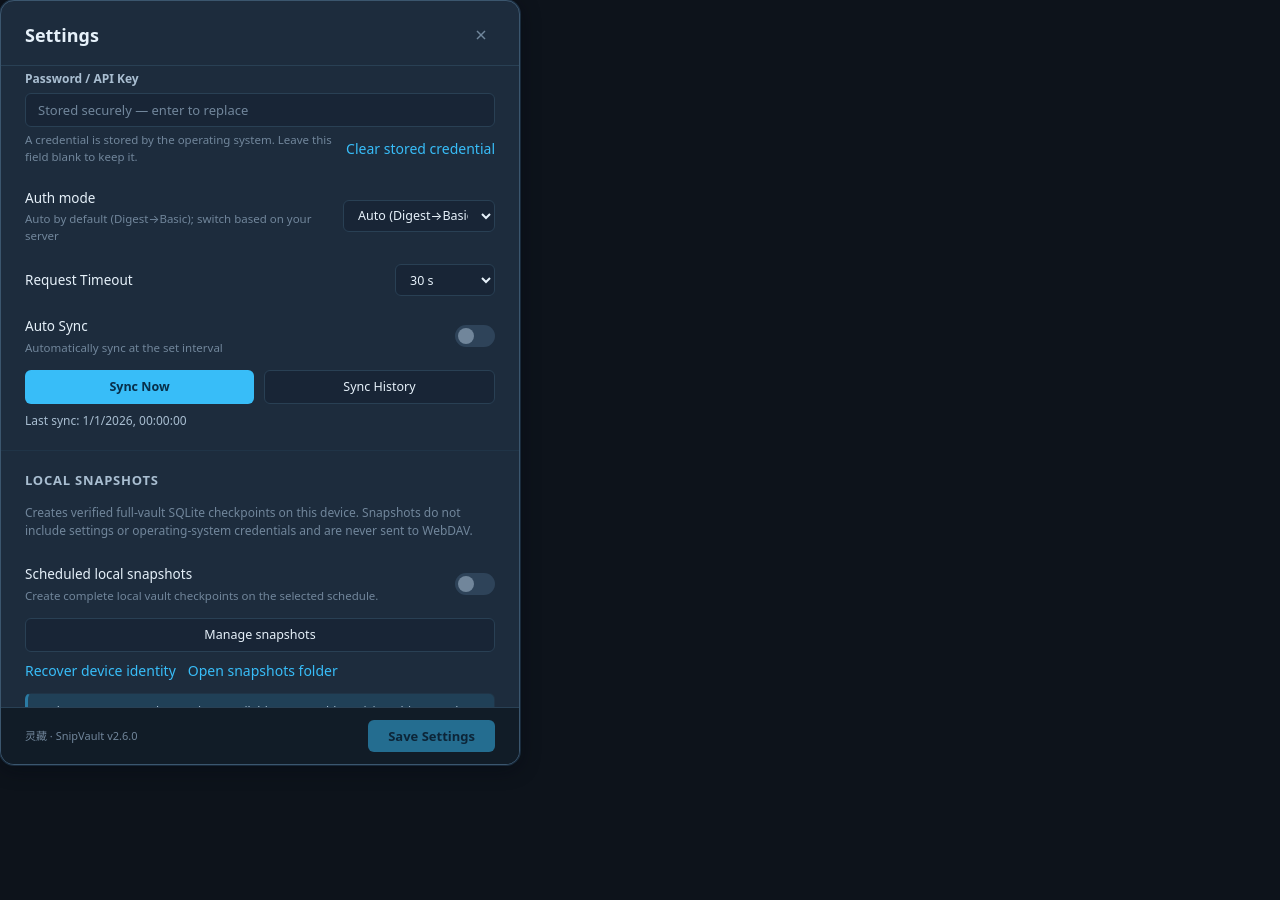
SettingsPanel draft behavior › renders v2 sync history counts, protocol metadata, and loading/error states
(page scrolled)
Click the button "Sync History".
click(380, 387)  # box left=264, top=370, right=495, bottom=404
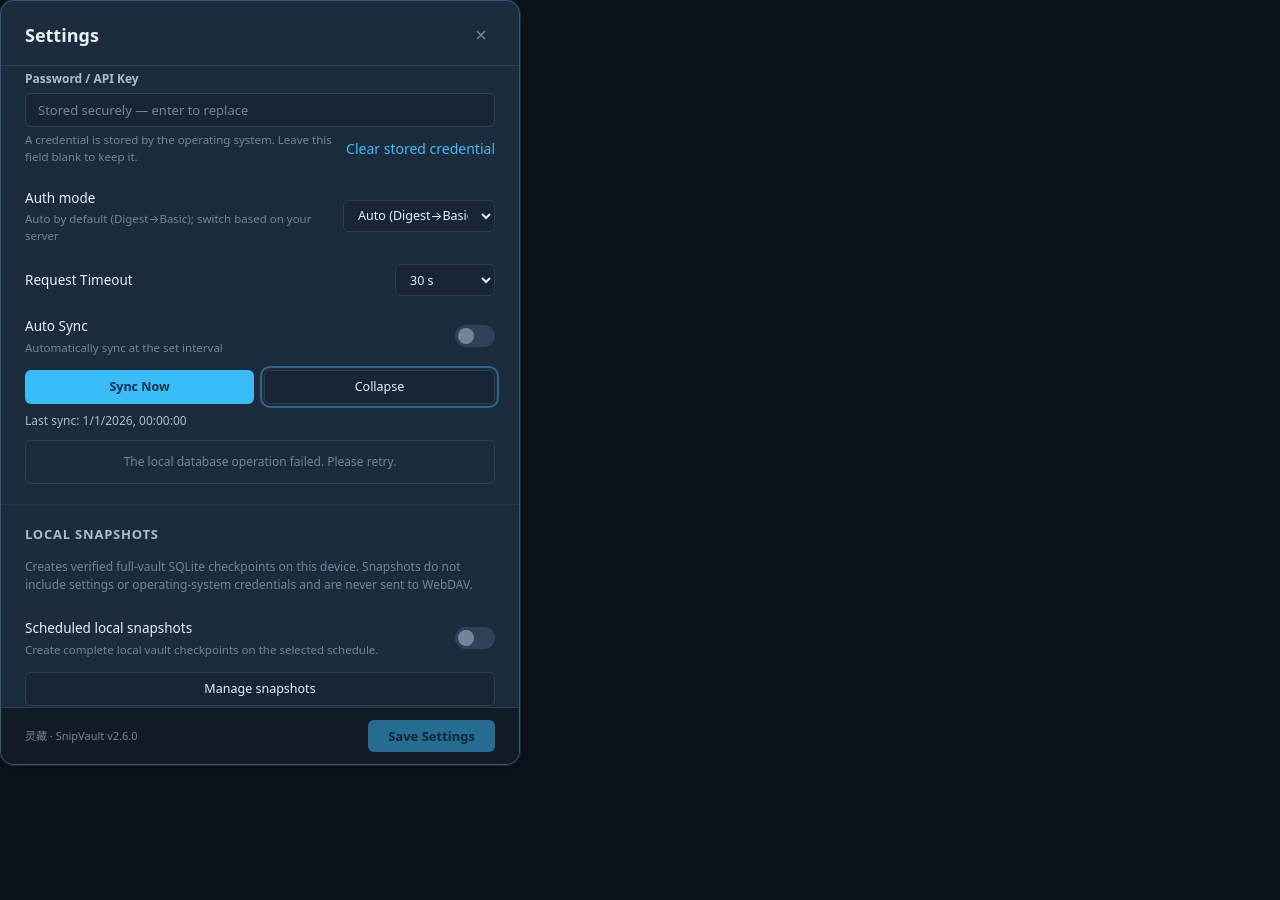
Check: the text "The local database operation failed. Please retry." is shown, box left=124, top=453, right=396, bottom=470
Click the button "Collapse".
click(380, 387)  # box left=264, top=370, right=495, bottom=404
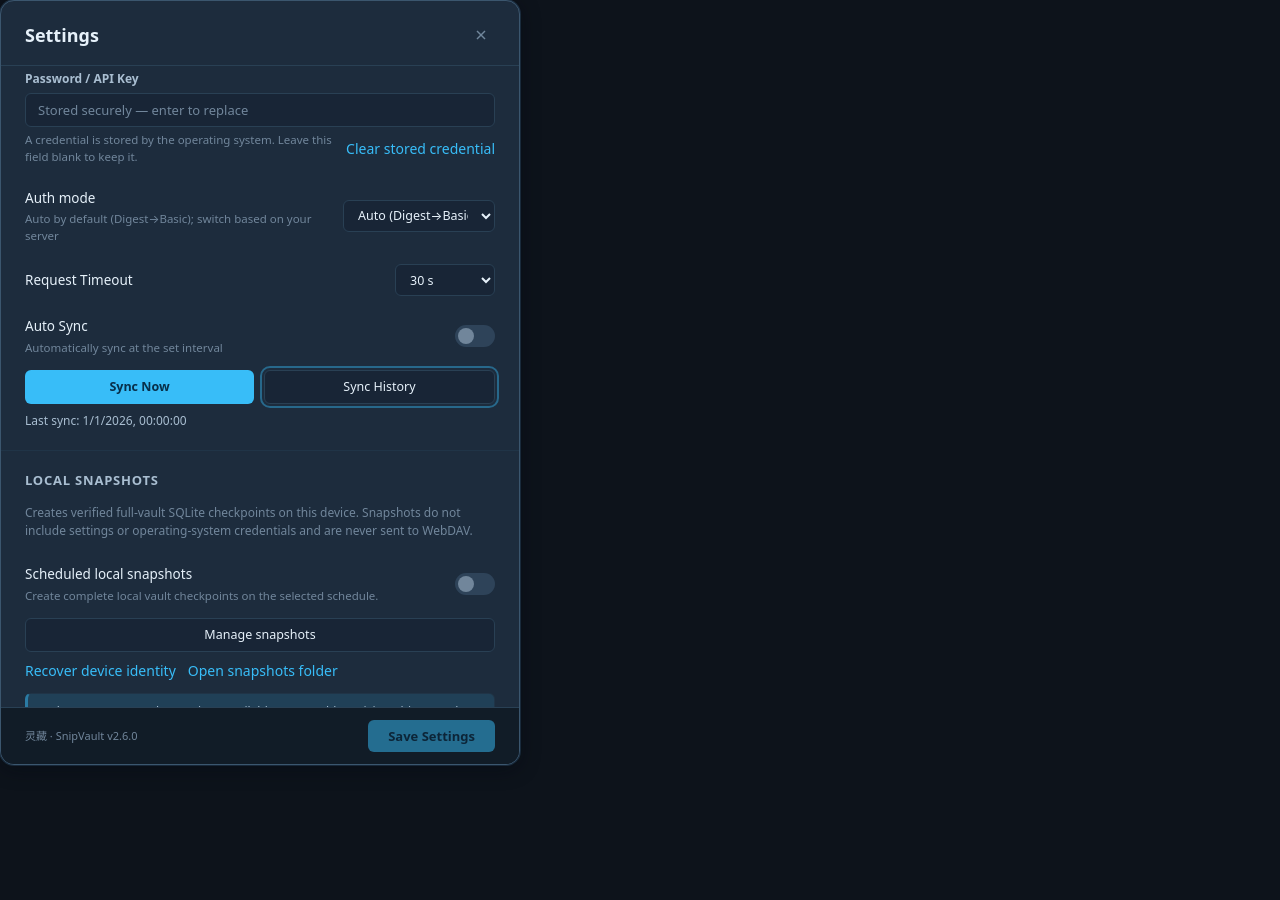
Click the button "Sync History".
click(380, 387)  # box left=264, top=370, right=495, bottom=404
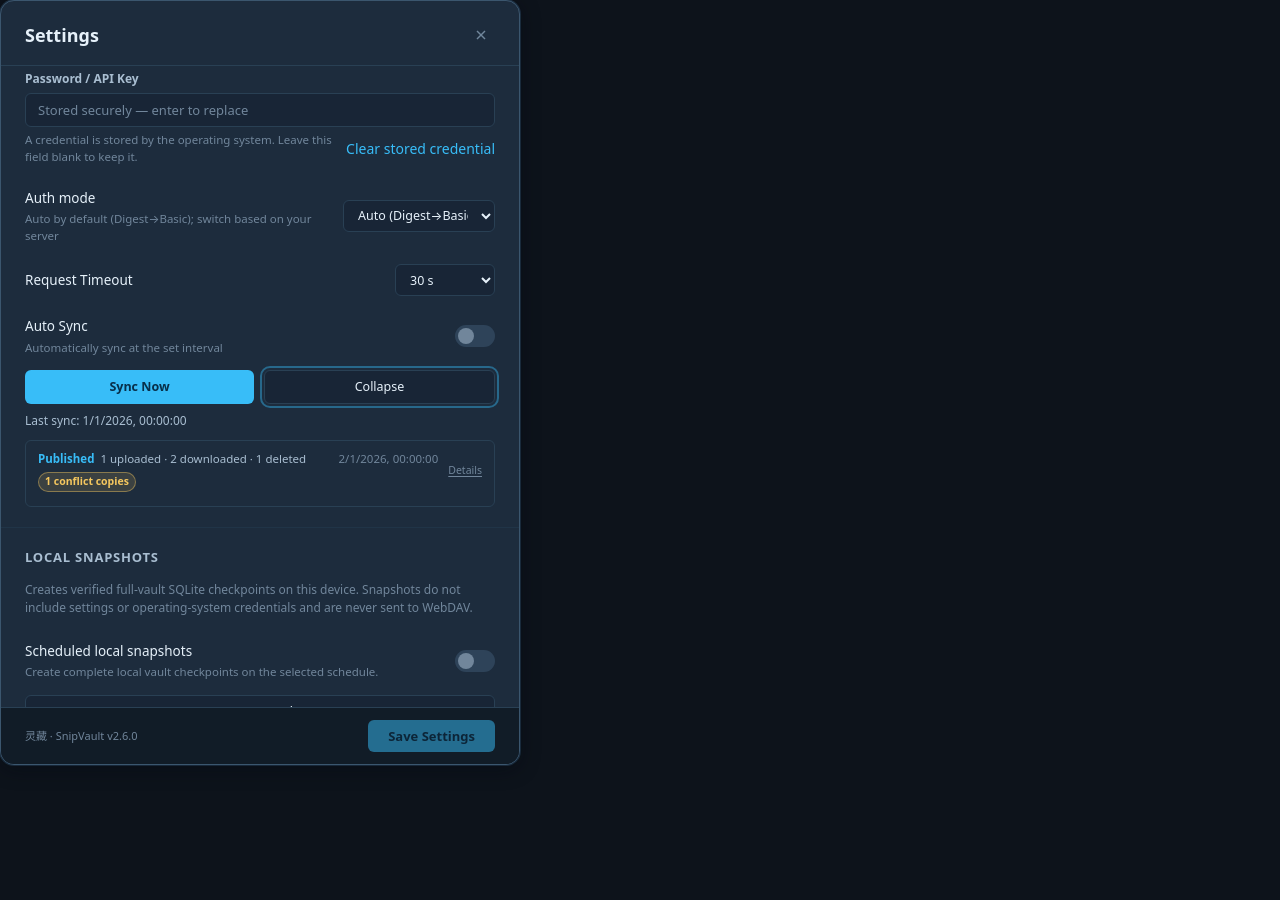
Check: the text "Published" is shown, box left=38, top=450, right=94, bottom=467
